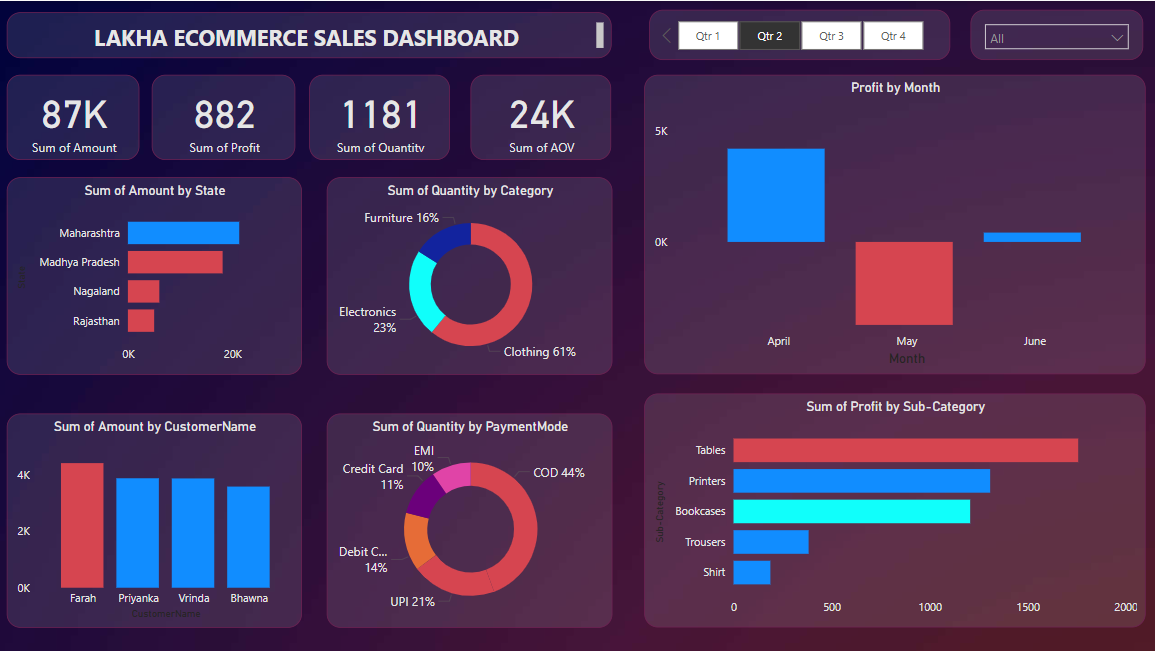

The page's visual inventory and layout, read from the dashboard file:
{"tool":"powerbi","page":{"name":"Page 1","canvas":[1280,720],"ordinal":0},"visuals":[{"type":"textbox","box":[39.8,30.2,617.5,61.7],"z":0},{"type":"columnChart","title":"Profit by Month","fields":{"Category":["Orders.Order Date.Variation.Date Hierarchy.Month"],"Y":["Sum(Details.Profit)"]},"box":[677.9,115.3,581.8,289.5],"z":1000},{"type":"barChart","fields":{"Category":["Details.Sub-Category"],"Y":["Sum(Details.Profit)"]},"box":[677.9,435,581.8,259.3],"z":2000},{"type":"donutChart","fields":{"Category":["Details.Category"],"Y":["Sum(Details.Quantity)"]},"box":[347.2,241.5,310.1,220.9],"z":3000},{"type":"donutChart","fields":{"Y":["Sum(Details.Quantity)"],"Category":["Details.PaymentMode"]},"box":[347.2,474.8,310.1,220.9],"z":4000},{"type":"card","fields":{"Values":["Sum(Details.Amount)"]},"box":[39.8,115.3,135.8,101.5],"z":5000},{"type":"card","fields":{"Values":["Sum(Details.Quantity)"]},"box":[366.4,115.3,135.8,101.5],"z":6000},{"type":"card","fields":{"Values":["Sum(Details.Profit)"]},"box":[211.3,115.3,135.8,101.5],"z":7000},{"type":"card","fields":{"Values":["Sum(Details.AOV)"]},"box":[521.4,115.3,135.8,101.5],"z":8000},{"type":"barChart","fields":{"Category":["Orders.State"],"Y":["Sum(Details.Amount)"]},"box":[35.7,241.5,279.9,211.3],"z":9000},{"type":"columnChart","fields":{"Category":["Orders.CustomerName"],"Y":["Sum(Details.Amount)"]},"box":[35.7,474.8,279.9,220.9],"z":10000},{"type":"slicer","fields":{"Values":["Orders.Order Date.Variation.Date Hierarchy.Quarter"]},"box":[704.3,31.6,325.2,60.4],"z":11000},{"type":"slicer","fields":{"Values":["Orders.State"]},"box":[1063.8,31.6,161.9,60.4],"z":12000}]}

Visuals, with their boxes in screenshot pixels (x1, y1, x2, y2), scaled from the page's 1280x720 canvas onto the 1155x651 screenshot:
textbox: crop(36, 27, 593, 83)
"Profit by Month" columnChart: crop(612, 104, 1137, 366)
barChart - Details.Sub-Category x Sum(Details.Profit): crop(612, 393, 1137, 628)
donutChart - Details.Category x Sum(Details.Quantity): crop(313, 218, 593, 418)
donutChart - Sum(Details.Quantity) x Details.PaymentMode: crop(313, 429, 593, 629)
card - Sum(Details.Amount): crop(36, 104, 158, 196)
card - Sum(Details.Quantity): crop(331, 104, 453, 196)
card - Sum(Details.Profit): crop(191, 104, 313, 196)
card - Sum(Details.AOV): crop(470, 104, 593, 196)
barChart - Orders.State x Sum(Details.Amount): crop(32, 218, 285, 409)
columnChart - Orders.CustomerName x Sum(Details.Amount): crop(32, 429, 285, 629)
slicer - Orders.Order Date.Variation.Date Hierarchy.Quarter: crop(636, 29, 929, 83)
slicer - Orders.State: crop(960, 29, 1106, 83)
